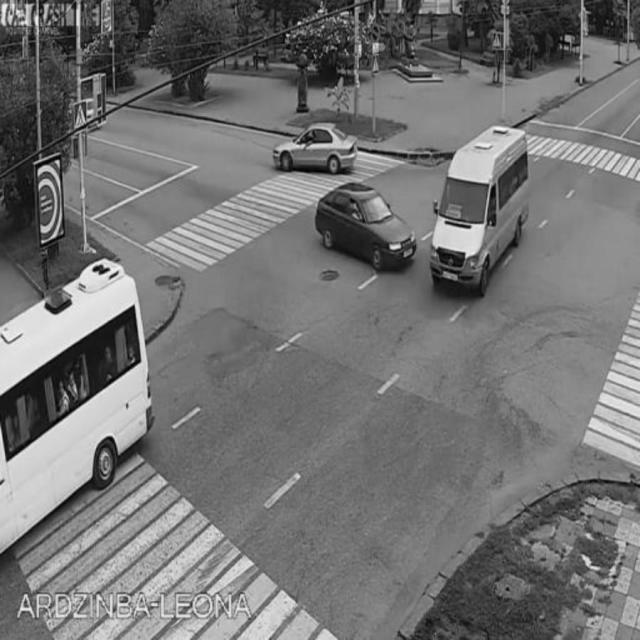vehicle: (1, 264, 155, 527), (433, 132, 524, 286), (317, 185, 411, 263), (270, 128, 362, 170)
